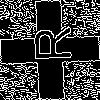R: (25, 25, 72, 63)
